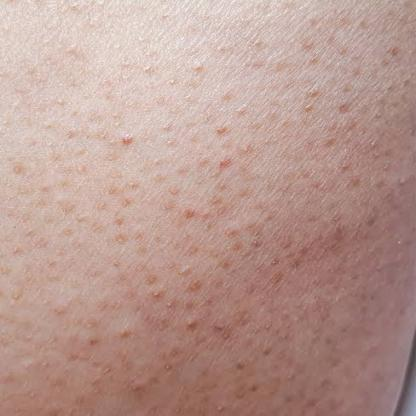Chicken Skin: (184, 179, 270, 299), (280, 80, 382, 150)
